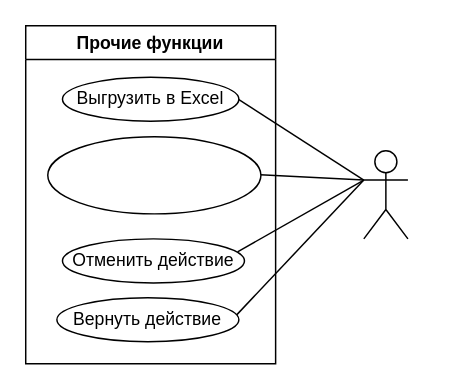
Image size: 450x390. Some labels were removed from this diagram. The centre of each missing label's shape, as x and y in pixels:
Методист: (x=385, y=194)
Посмотреть справку о программе: (x=153, y=174)
